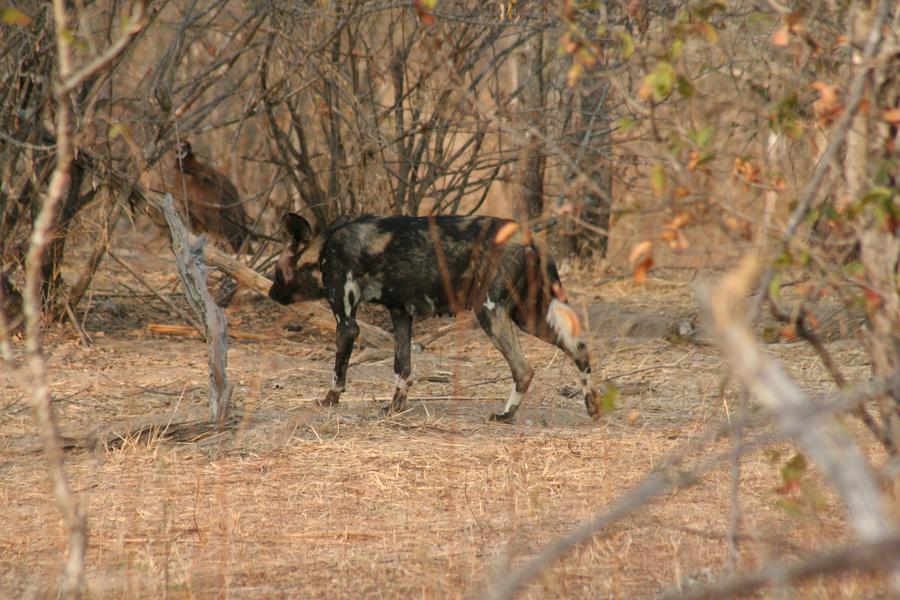wilddog: (274, 202, 551, 354)
